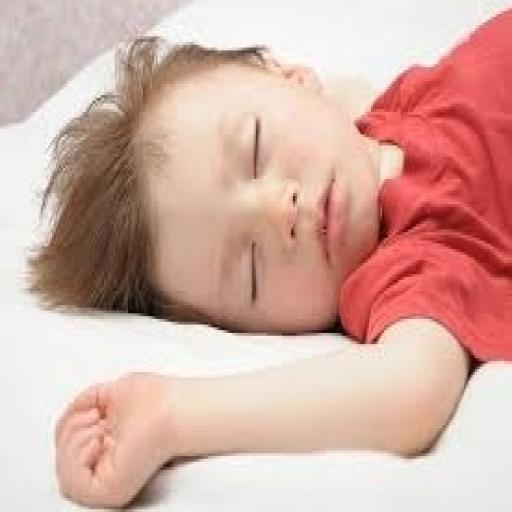sleeping: (26, 6, 510, 509)
